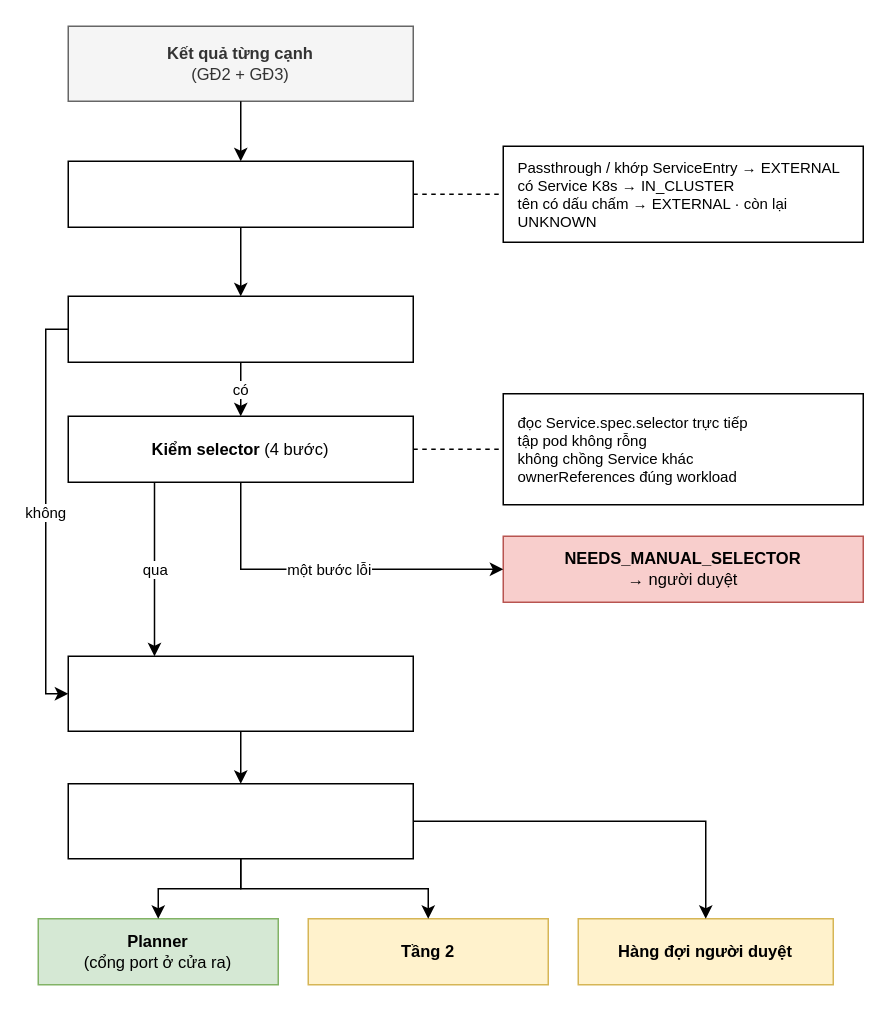
This 890x1011 diagram has some shape labels left out. The shapes that lost their labels are listed below. From the top down, each one's centre as x and y in pixels, then its label:
At point (240, 193): "Xác định scope".
At point (240, 328): "STRONG và không EXTERNAL?".
At point (240, 693): "Gắn cờ: low_count_strong (STRONG mà count < 3) unstable (tỷ lệ lỗi > 30%)".
At point (240, 820): "Lưu SQLite — mỗi snapshot một lượt, giữ lịch sử cho previous_status".
